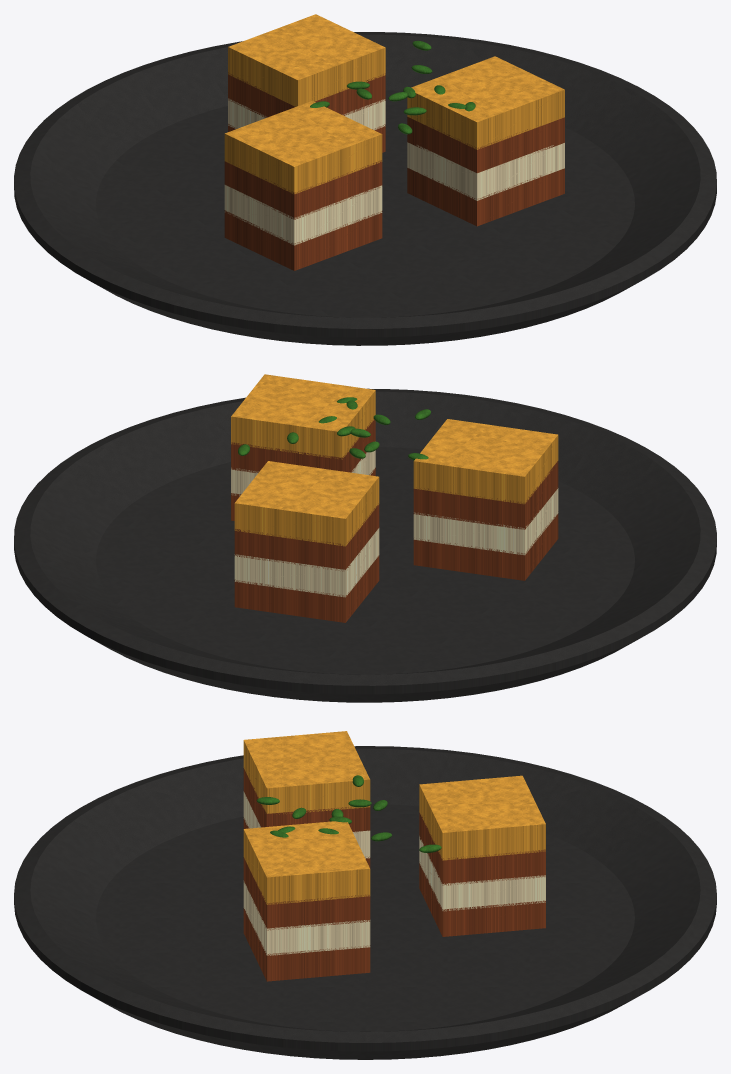
File: chicharron-maracuya.glb
The picture shows the model from 3 angles, top to bottom: view 1: azimuth 30°, elevation 25°; view 2: azimuth 150°, elevation 25°; view 3: azimuth 270°, elevation 25°; orthographic projection.
Visible parts, largest first — view 1: part0, part3, part1, part2, part4; view 2: part0, part3, part1, part2, part4; view 3: part0, part3, part1, part2, part4.
Boxes of the visible parts, left/top/right/bottom form: part0: left=14, top=32, right=716, bottom=345; part3: left=224, top=14, right=564, bottom=193; part1: left=224, top=72, right=564, bottom=270; part2: left=224, top=98, right=564, bottom=245; part4: left=310, top=40, right=475, bottom=134; part0: left=14, top=388, right=716, bottom=702; part3: left=231, top=374, right=558, bottom=546; part1: left=231, top=418, right=558, bottom=622; part2: left=231, top=450, right=558, bottom=597; part4: left=238, top=397, right=430, bottom=460; part0: left=14, top=746, right=716, bottom=1059; part3: left=243, top=731, right=545, bottom=904; part1: left=243, top=768, right=545, bottom=981; part2: left=243, top=791, right=545, bottom=955; part4: left=256, top=775, right=441, bottom=852.
Size of the model in its own units: 0.3 by 0.0665 by 0.3.
Materials: 5 (5 with a texture image).
